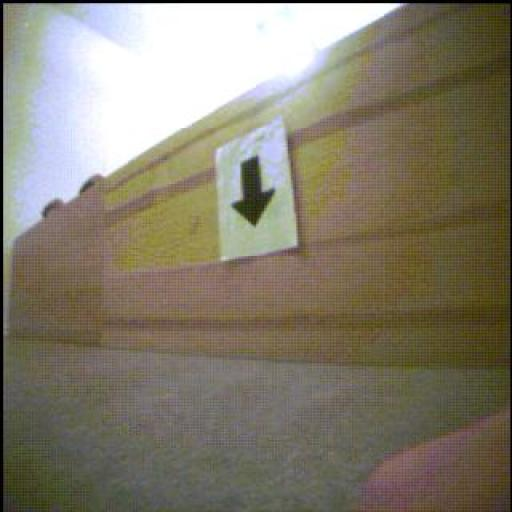Arrow: (233, 158, 276, 227)
